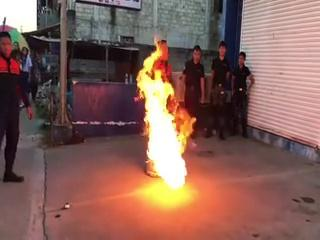Fire: (136, 48, 191, 192)
